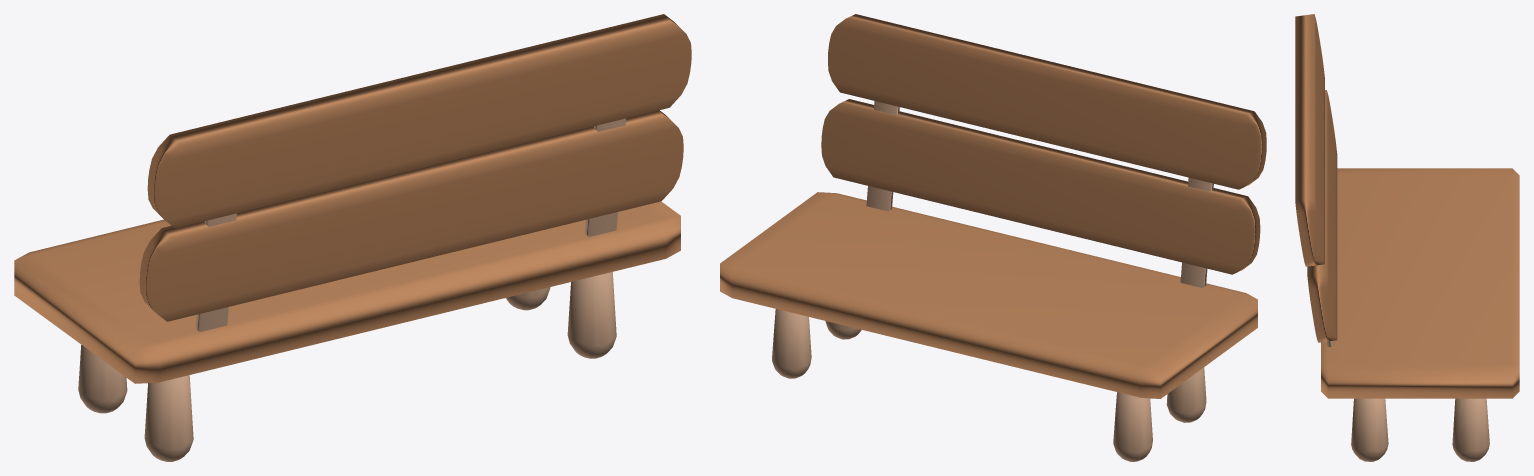
The model's file is BancoEpico.fbx.
3 renders of one model, left to right at view 1: azimuth 30°, elevation 25°; view 2: azimuth 150°, elevation 25°; view 3: azimuth 270°, elevation 25°, orthographic. The views are drawn at different scales.
Parts seen in each view (by area): view 1: Cube.002, Cube.001, Cube, Icosphere.006, Icosphere.005, Icosphere.004, Cube.004, Cube.003; view 2: Cube, Cube.002, Cube.001, Icosphere.004, Icosphere.002, Icosphere.006, Cube.004, Cube.003; view 3: Cube, Cube.002, Cube.001, Icosphere.002, Icosphere.005.
Boxes of the visible parts, bbox=[...] form: Cube.002: bbox=[147, 14, 691, 228]; Cube.001: bbox=[139, 110, 683, 321]; Cube: bbox=[14, 201, 680, 383]; Icosphere.006: bbox=[144, 375, 193, 461]; Icosphere.005: bbox=[567, 272, 616, 358]; Icosphere.004: bbox=[78, 345, 127, 413]; Cube.004: bbox=[195, 213, 236, 331]; Cube.003: bbox=[584, 118, 626, 236]; Cube: bbox=[720, 192, 1257, 398]; Cube.002: bbox=[828, 14, 1266, 189]; Cube.001: bbox=[821, 99, 1260, 274]; Icosphere.004: bbox=[1113, 392, 1152, 461]; Icosphere.002: bbox=[772, 309, 811, 378]; Icosphere.006: bbox=[1166, 367, 1206, 422]; Cube.004: bbox=[1180, 177, 1213, 287]; Cube.003: bbox=[866, 101, 899, 211]; Cube: bbox=[1321, 168, 1519, 398]; Cube.002: bbox=[1295, 14, 1324, 266]; Cube.001: bbox=[1307, 90, 1337, 342]; Icosphere.002: bbox=[1452, 398, 1489, 461]; Icosphere.005: bbox=[1351, 398, 1388, 461].
Size of the model in its own units: 200 by 126 by 93.26.
